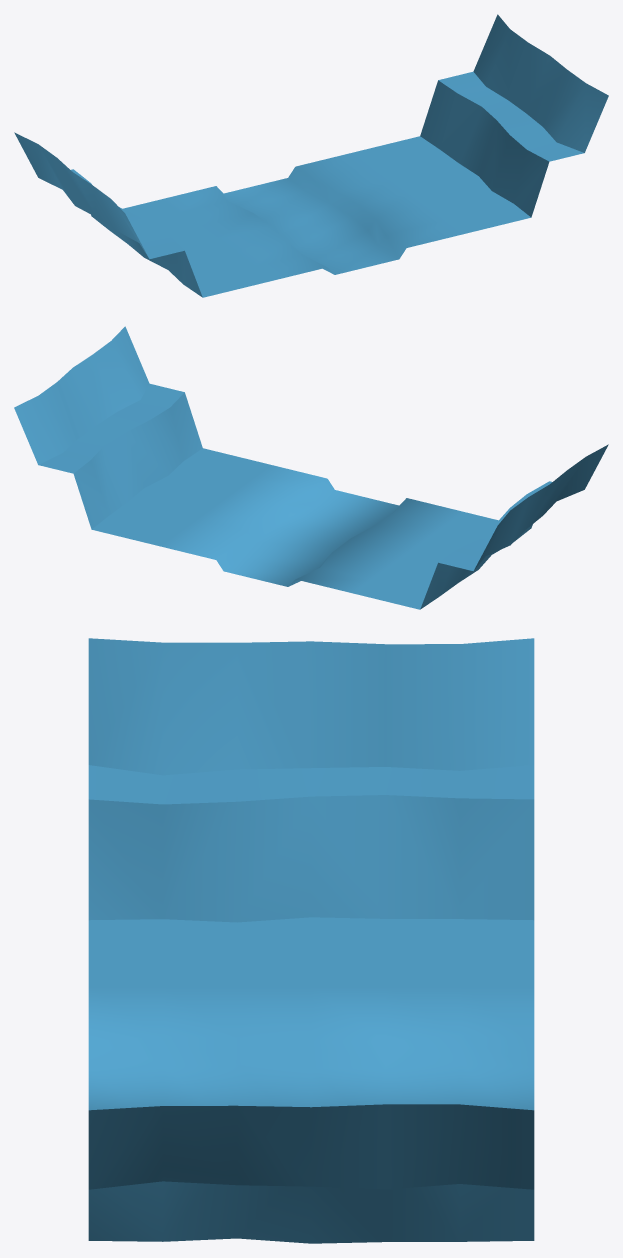
File: unified_platform.FBX
3 renders of one model, top to bottom at view 1: azimuth 30°, elevation 25°; view 2: azimuth 150°, elevation 25°; view 3: azimuth 270°, elevation 25°, orthographic. The views are drawn at different scales.
Visible parts, largest first — view 1: terreno010; view 2: terreno010; view 3: terreno010.
Part boxes in pixels (<box>): terreno010: <box>14,14,608,297</box>; terreno010: <box>14,326,608,609</box>; terreno010: <box>88,638,534,1243</box>.
Size of the model in its own units: 27.17 by 6.04 by 10.83.
